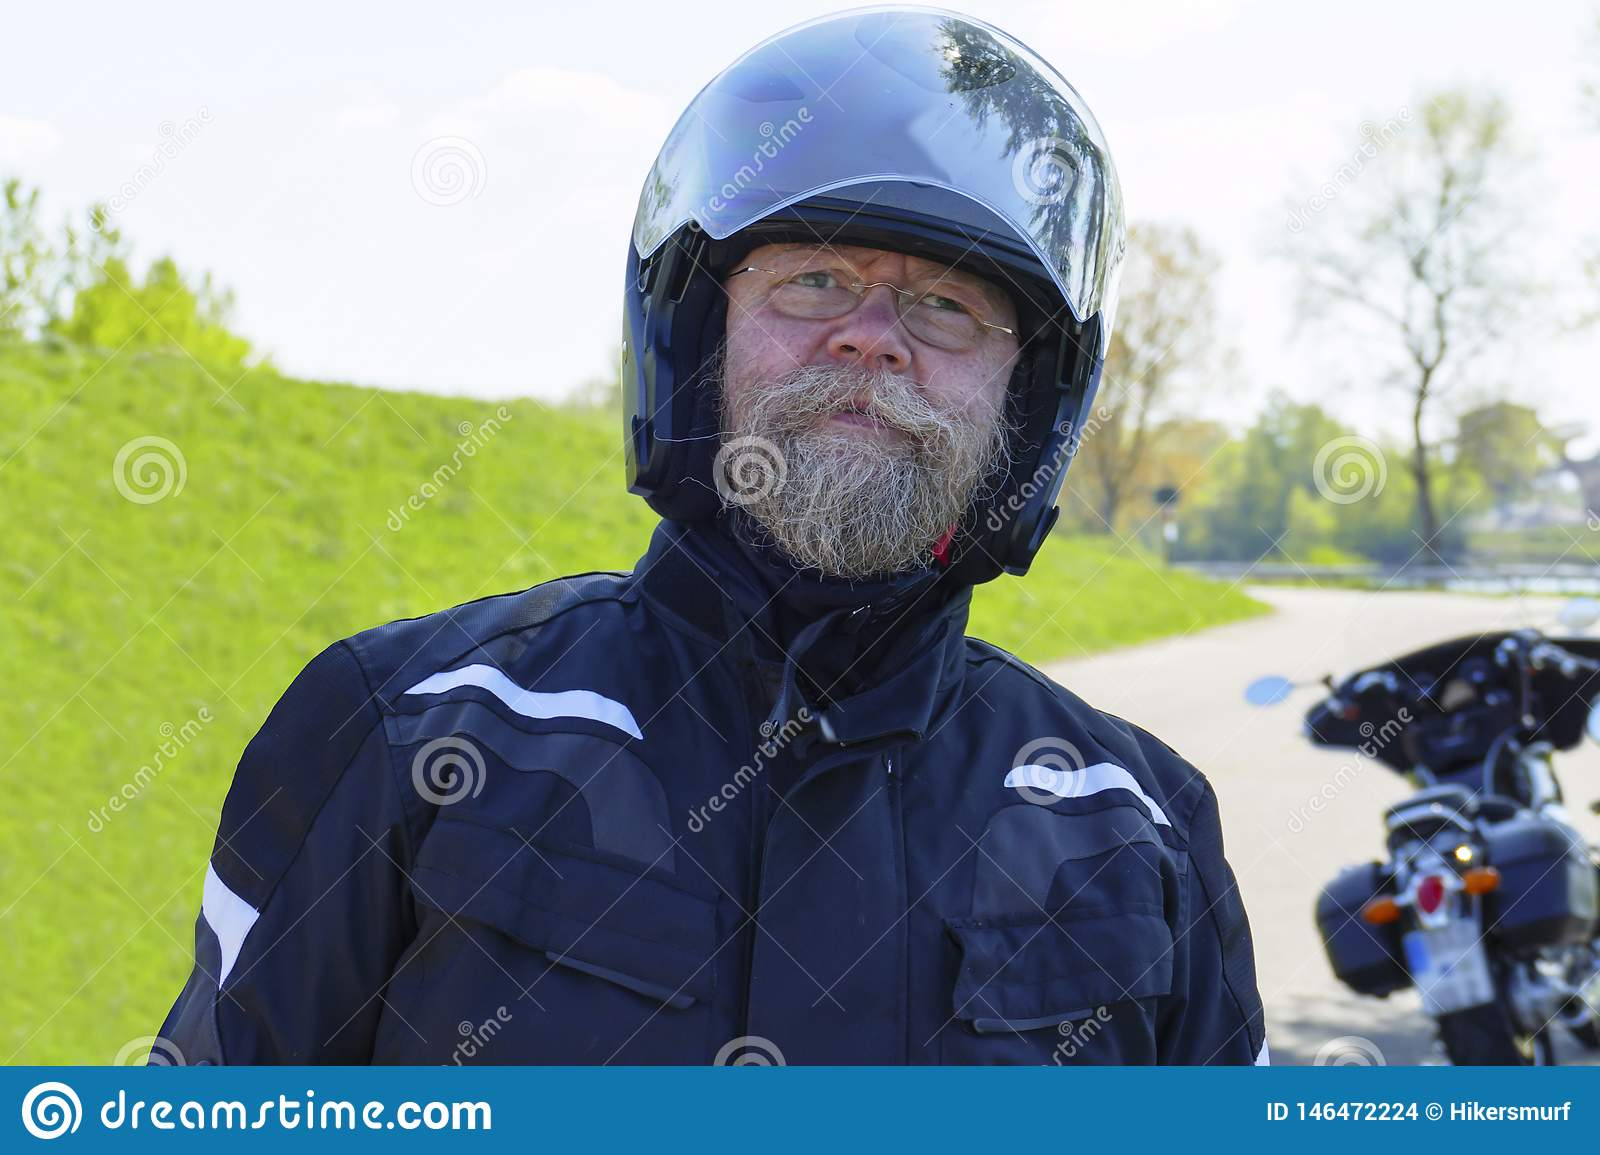helmet: (648, 1, 1116, 538)
